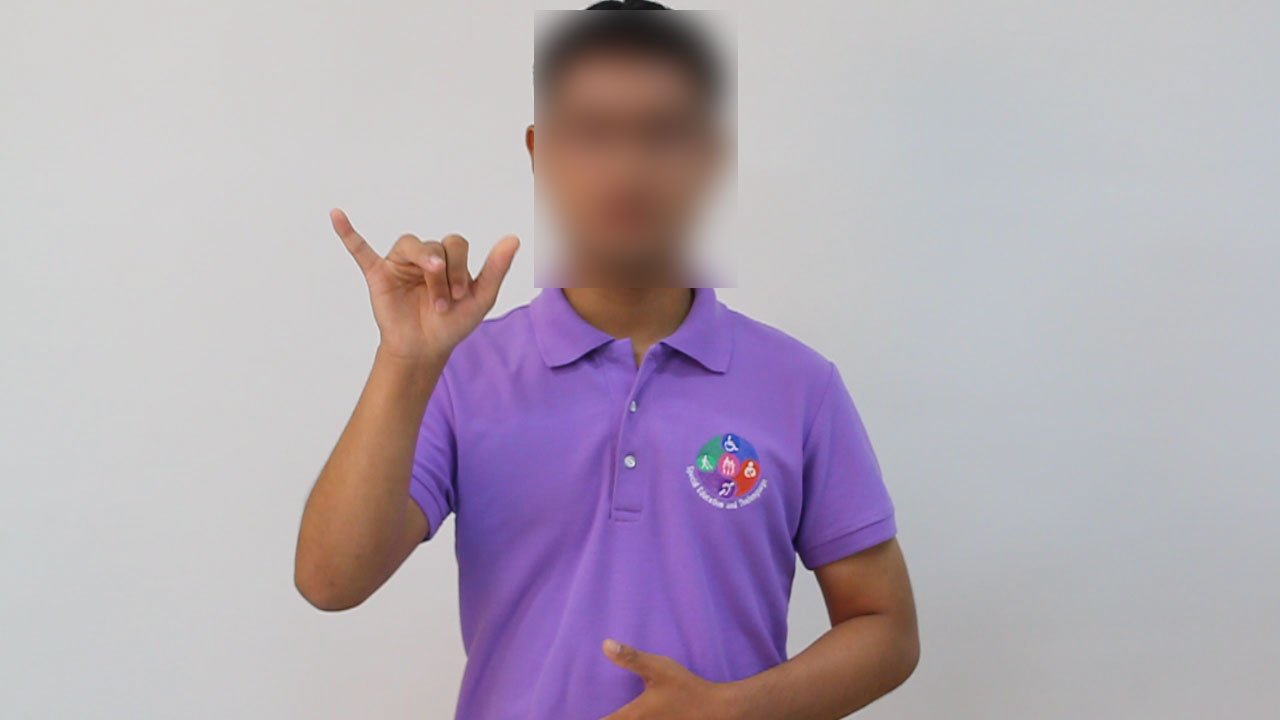yor: (313, 199, 532, 371)
